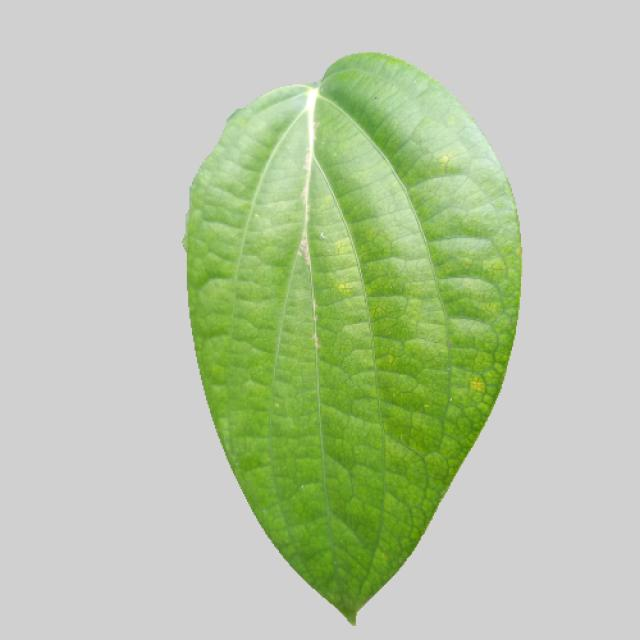healthy: (185, 55, 528, 625)
